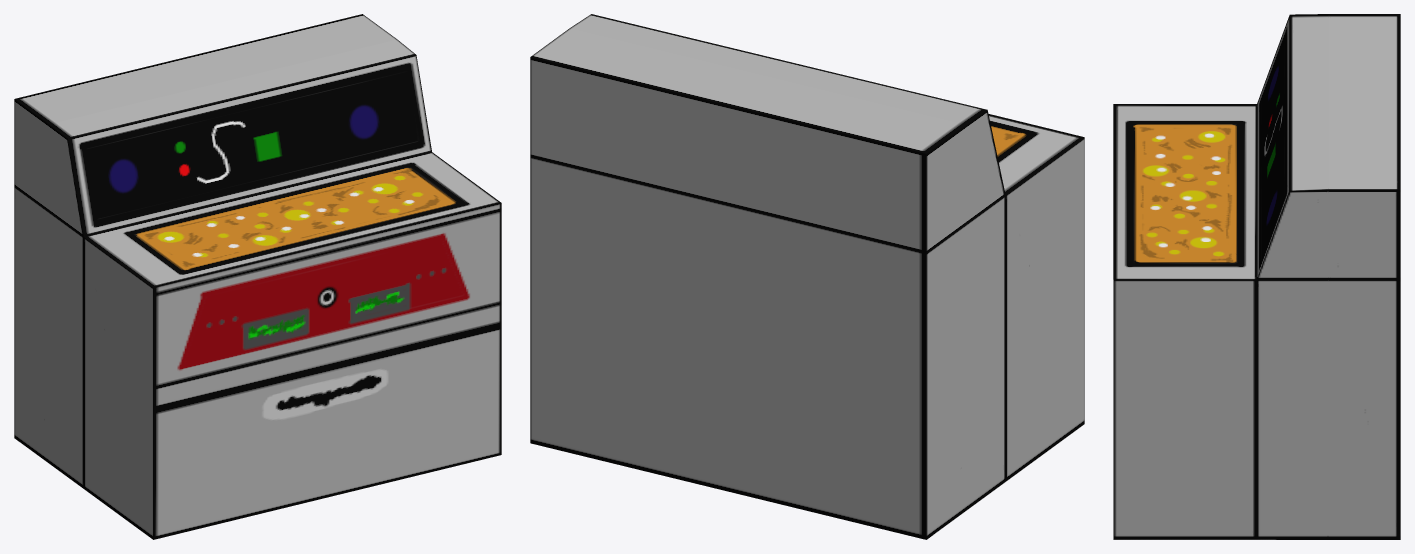
Rendered from Fryer.fbx.
3 renders of one model, left to right at view 1: azimuth 30°, elevation 25°; view 2: azimuth 150°, elevation 25°; view 3: azimuth 270°, elevation 25°, orthographic. The views are drawn at different scales.
Visible parts, largest first — view 1: Fryer; view 2: Fryer; view 3: Fryer.
Part boxes in pixels (x1,y1,x2,y2): Fryer: (14,14,501,539); Fryer: (530,14,1084,539); Fryer: (1113,14,1400,539).
Bounding box in the file's own units: 447 × 416 × 309.
